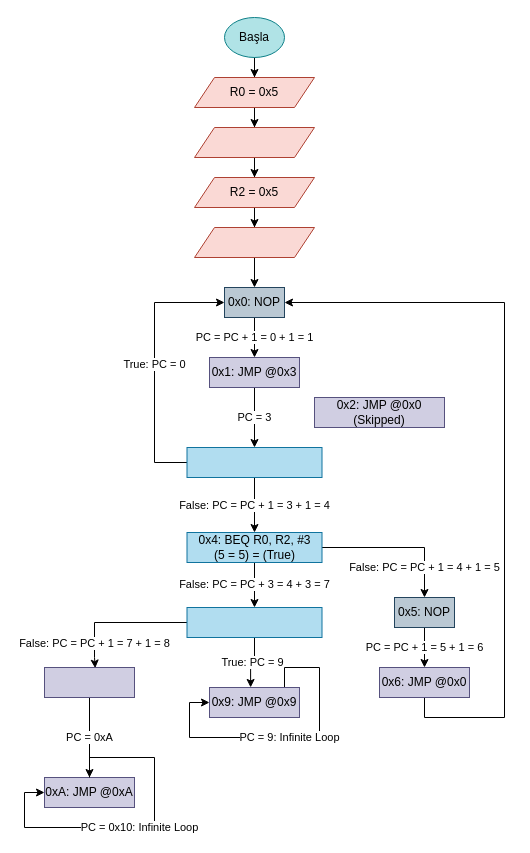
The diagram is 530 pixels wide and 853 high, and some of its shapes have lost their labels. The centre of each missing label's shape, as x and y in pixels:
0x3: BGT R0, R1, @0x0 (5 > 9) = (False): pixel 254 462
0x7: BLT R1, R3, @0x9 (9 < 12) = (True): pixel 254 622
0x8: JMP @0xA: pixel 89 682
R1 = 0x9: pixel 254 142
R3 = 0xC: pixel 254 242
